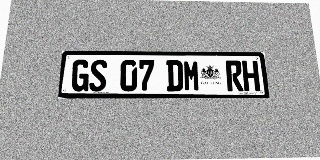0: (120, 60, 137, 91)
7: (137, 60, 154, 91)
D: (166, 60, 183, 91)
G: (71, 59, 90, 91)
H: (242, 60, 260, 91)
M: (183, 60, 200, 91)
R: (225, 60, 244, 91)
S: (89, 60, 107, 91)
